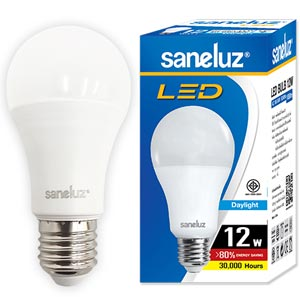Light_bulb: (4, 23, 134, 292), (149, 103, 237, 277)
